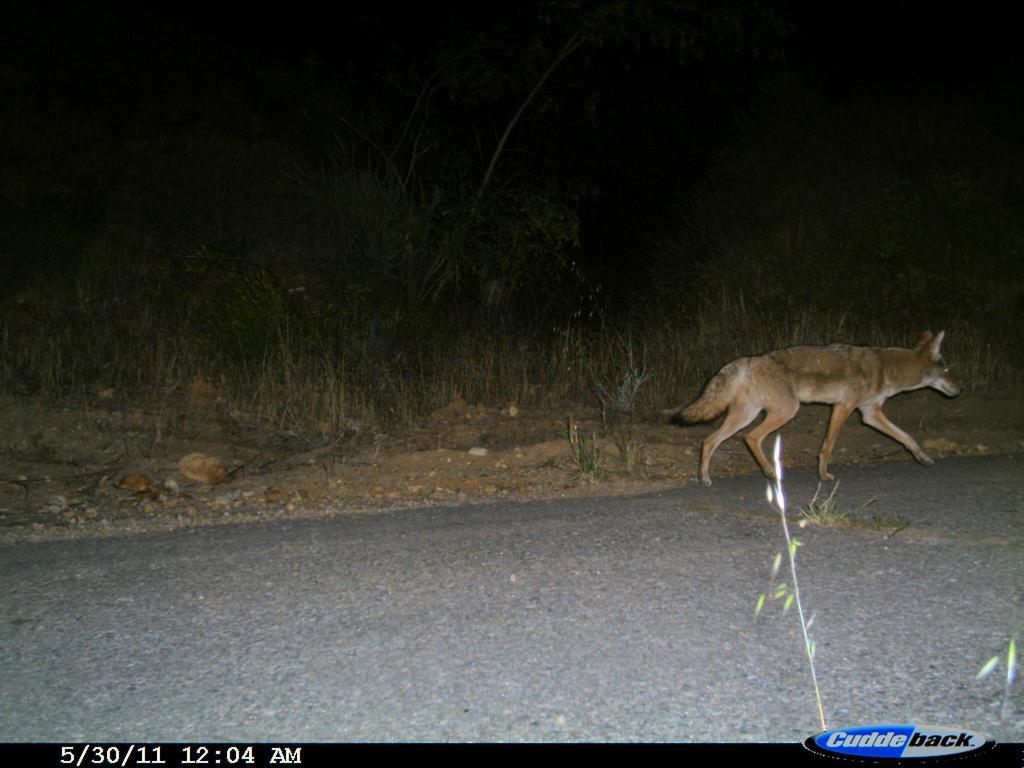coyote: (680, 328, 961, 511)
